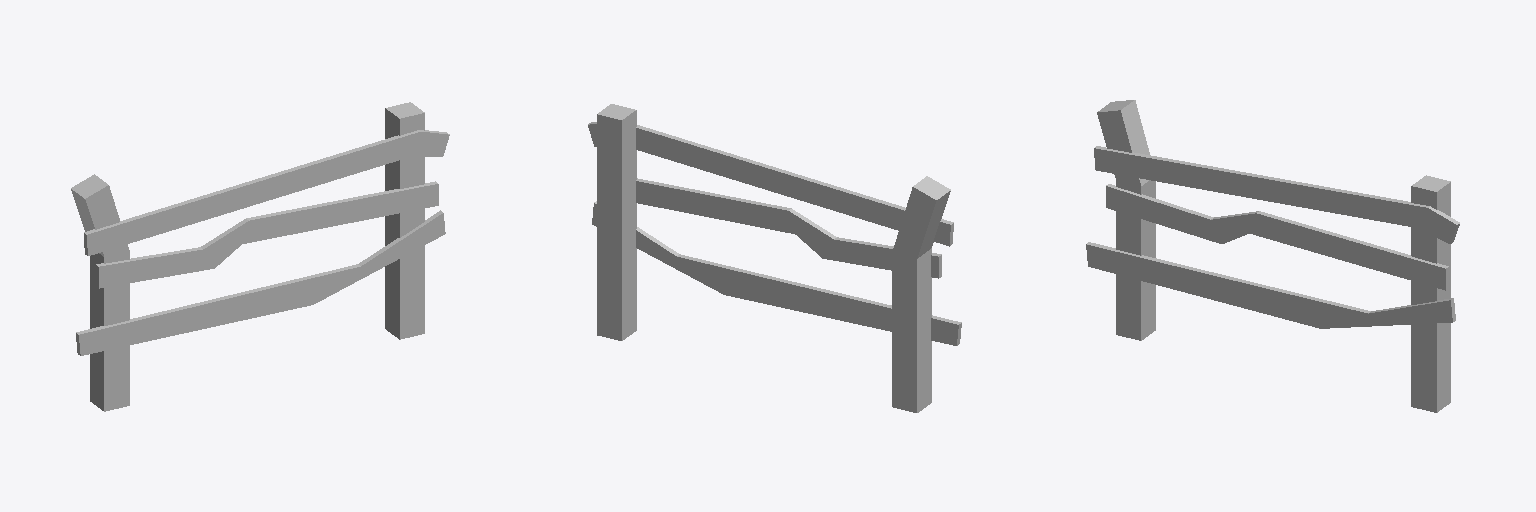
File: Fence_3.obj
The picture shows the model from 3 angles: view 1: azimuth 30°, elevation 25°; view 2: azimuth 150°, elevation 25°; view 3: azimuth 330°, elevation 25°; orthographic projection.
Parts seen in each view (by area): view 1: Fence_03; view 2: Fence_03; view 3: Fence_03.
Boxes of the visible parts, x1=… form: Fence_03: x1=71, y1=102, x2=449, y2=411; Fence_03: x1=588, y1=104, x2=961, y2=412; Fence_03: x1=1086, y1=100, x2=1459, y2=412.
Bounding box in the file's own units: 44.12 × 25.65 × 3.45.